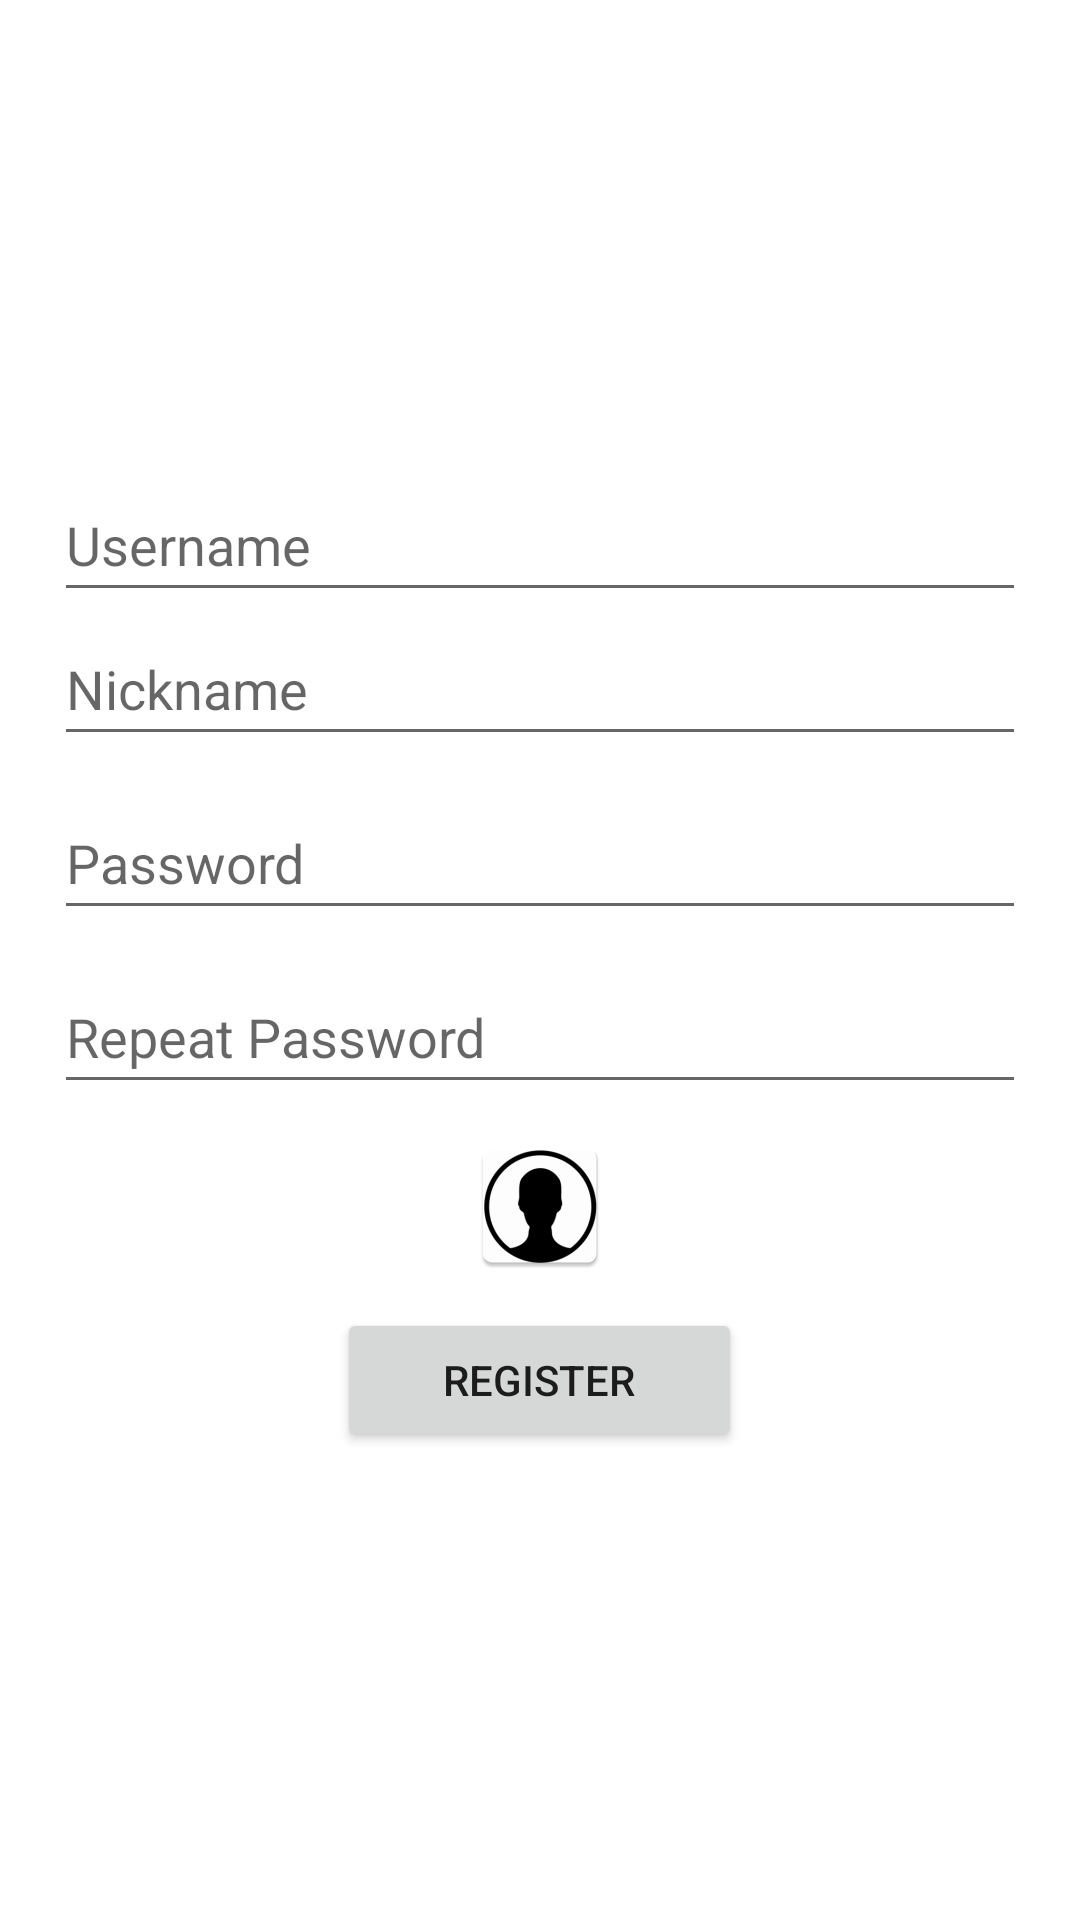

Where to tap for icons on this 1080px×1920px app screen, as [x,y]:
Add Profile Picture: [540,1208]
